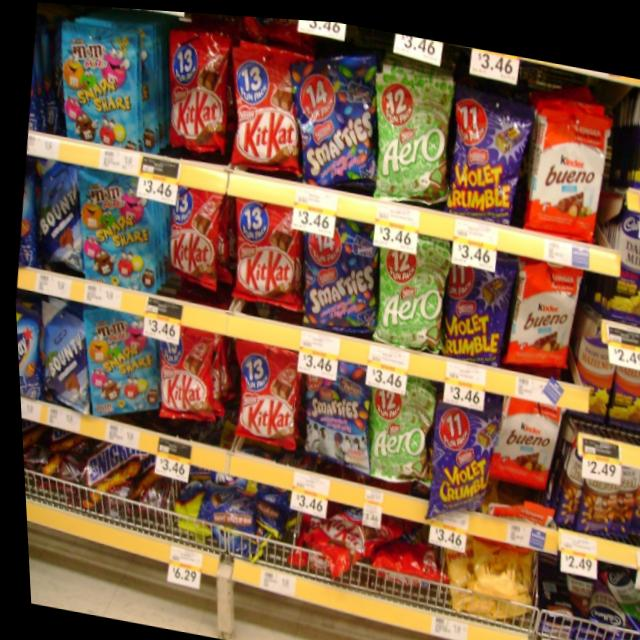q280: (218, 26, 314, 182), (155, 21, 240, 154), (221, 193, 311, 317), (224, 329, 304, 462), (158, 175, 236, 302), (151, 314, 222, 432)
